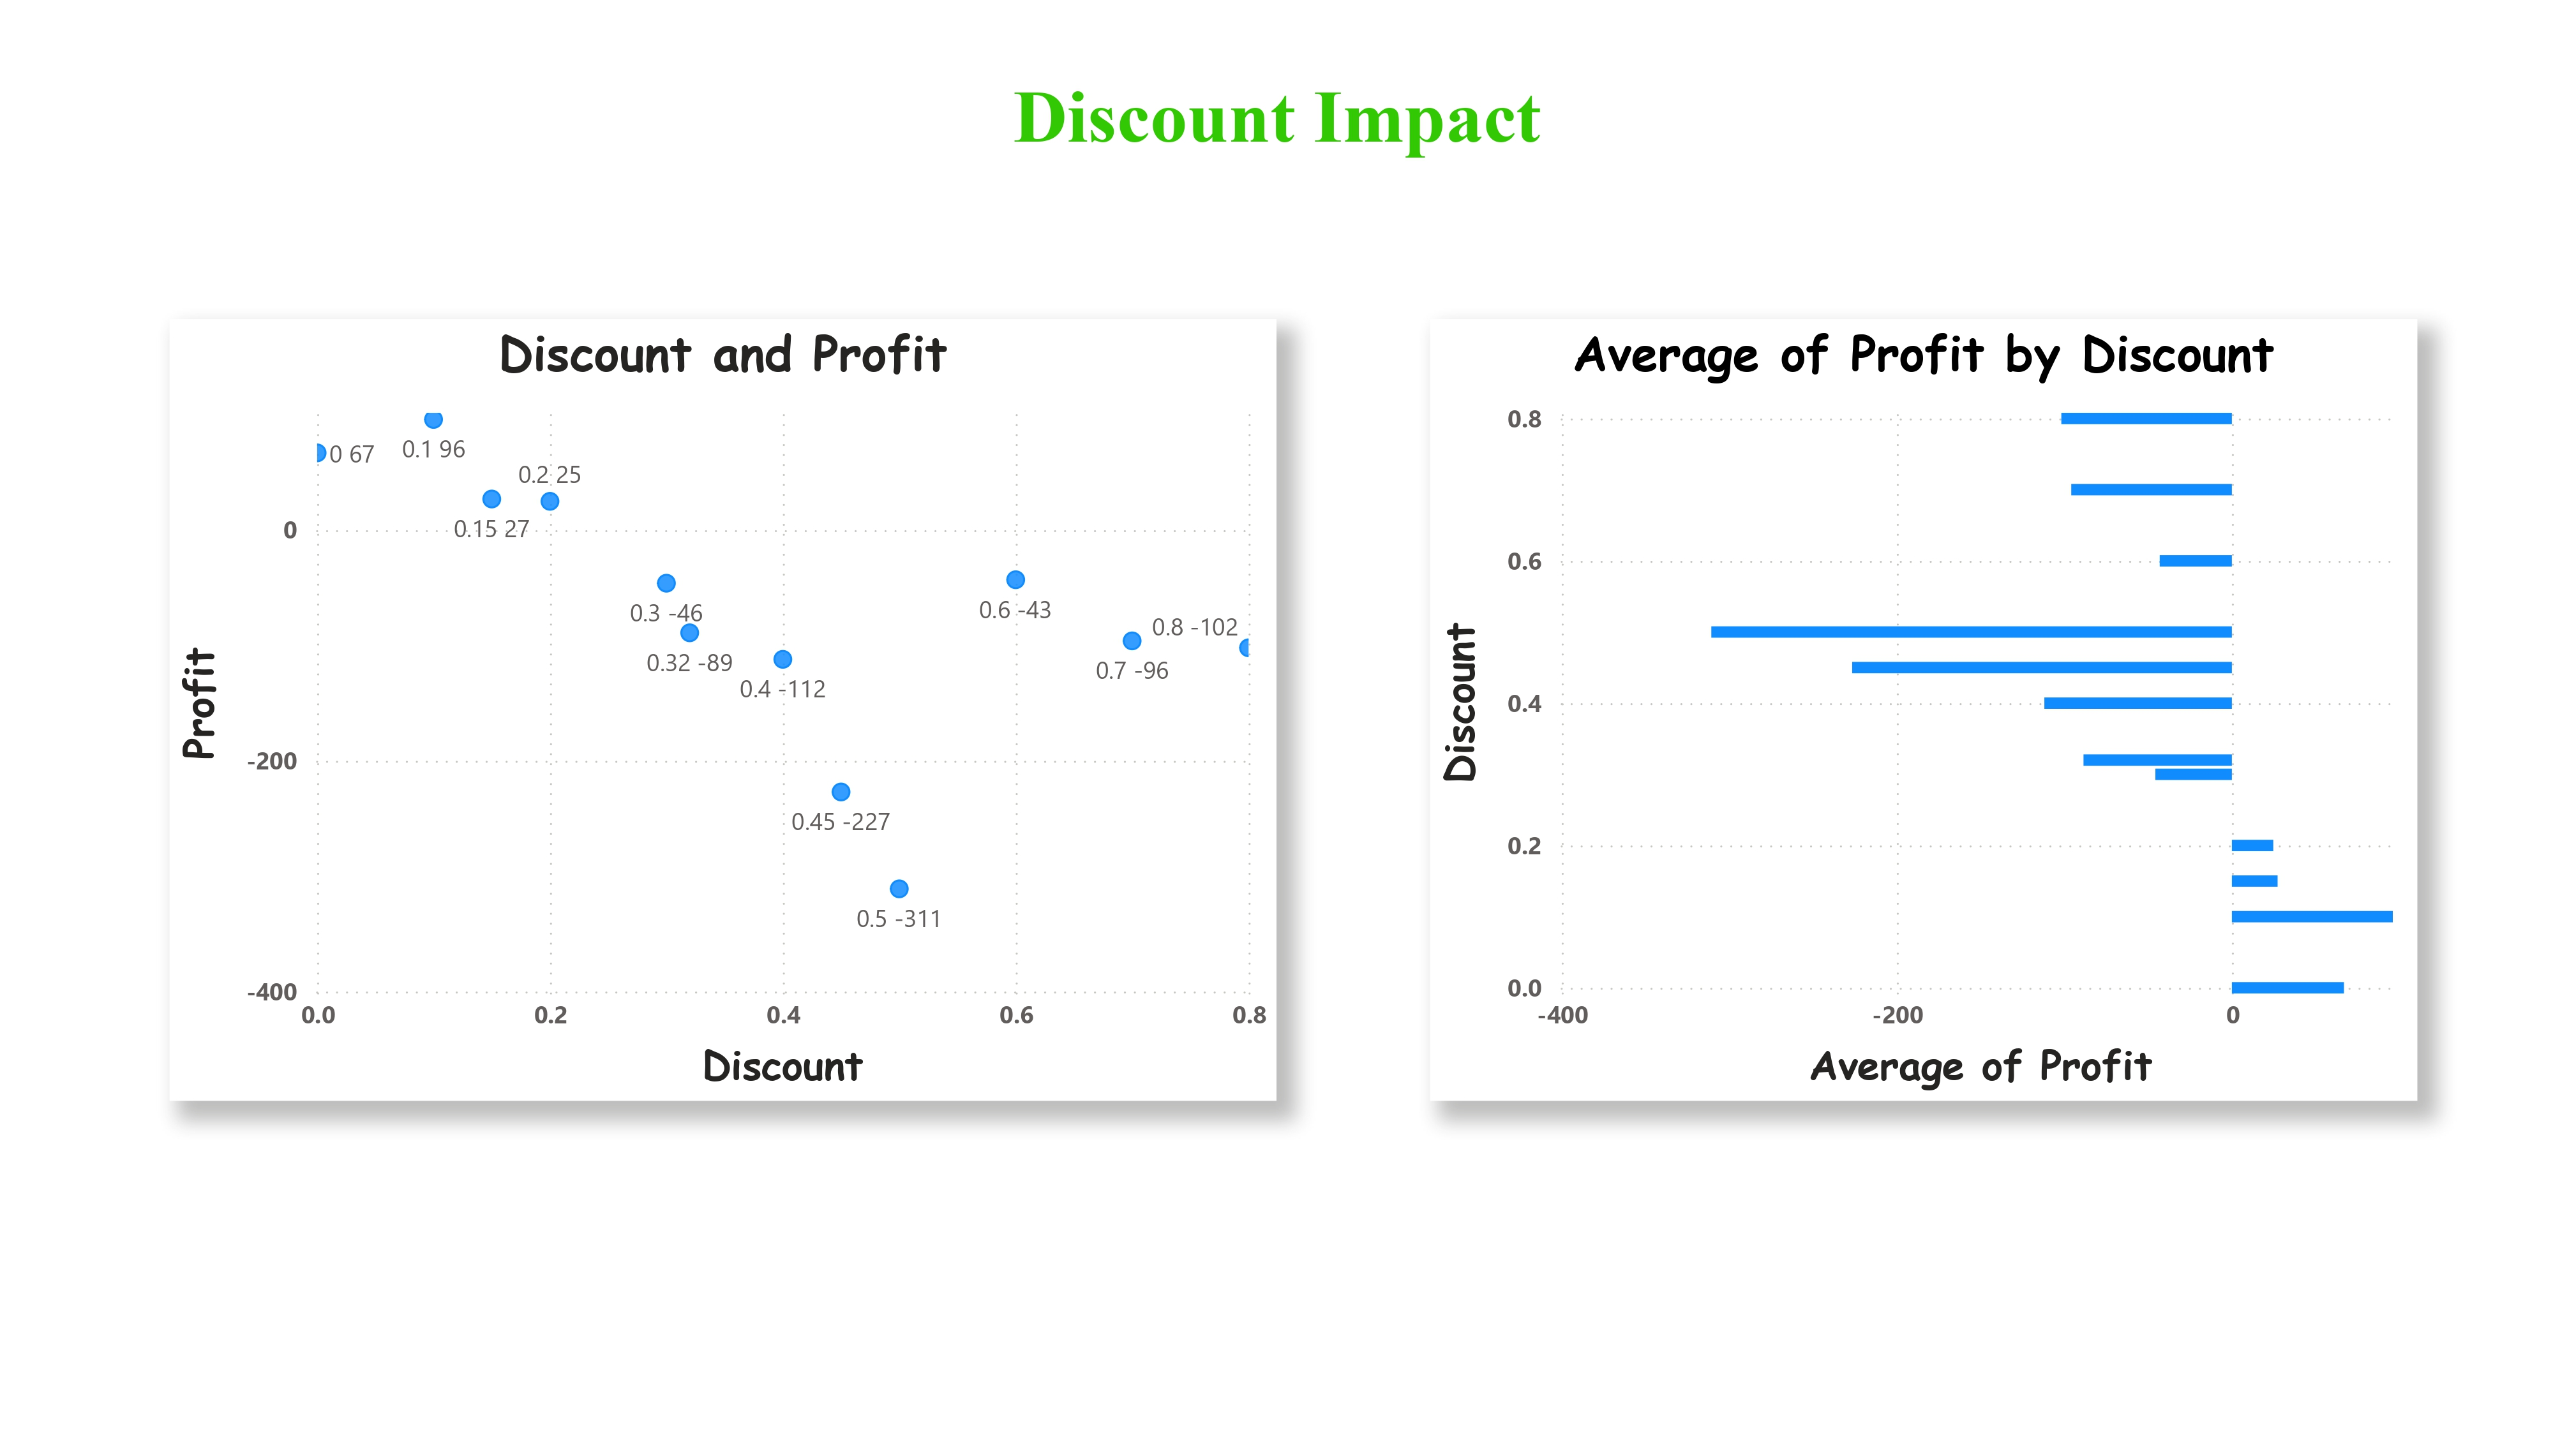

Layout of this report page (visuals, bound fields, positions):
{"tool":"powerbi","page":{"name":"Discount Impact","canvas":[1280,720],"ordinal":2},"visuals":[{"type":"scatterChart","fields":{"X":["DiscountVsProfit_Impact.Discount"],"Y":["DiscountVsProfit_Impact.Profit"]},"box":[85,155,555,391.7],"z":0},{"type":"barChart","fields":{"Category":["SampleSuperstorecleaned.Discount"],"Y":["Avg(SampleSuperstorecleaned.Profit)"]},"box":[716.7,155,495,391.7],"z":1000},{"type":"textbox","box":[426.7,26.7,426.7,60],"z":2000}]}

Visuals, with their boxes in screenshot pixels (x1, y1, x2, y2), scaled from the page's 1280x720 canvas onto the 2553x1456 screenshot:
scatterChart - DiscountVsProfit_Impact.Discount x DiscountVsProfit_Impact.Profit: bbox=(170, 313, 1276, 1106)
barChart - SampleSuperstorecleaned.Discount x Avg(SampleSuperstorecleaned.Profit): bbox=(1430, 313, 2417, 1106)
textbox: bbox=(851, 54, 1702, 175)
